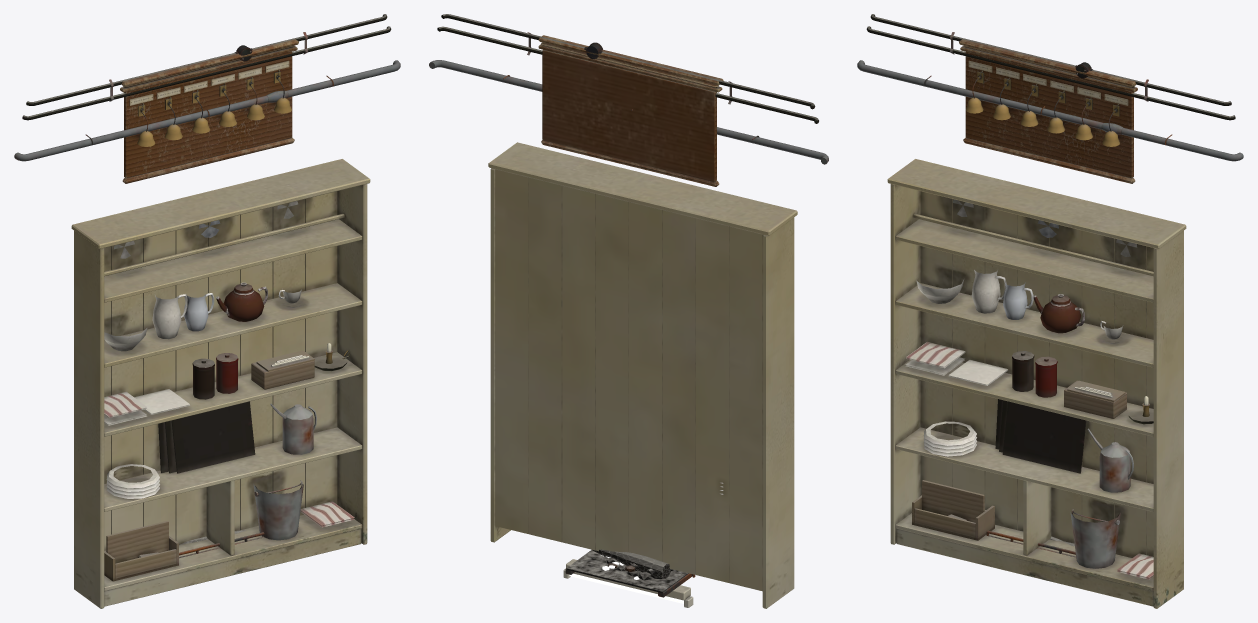
The model's file is common.glb.
3 renders of one model, left to right at view 1: azimuth 30°, elevation 25°; view 2: azimuth 150°, elevation 25°; view 3: azimuth 330°, elevation 25°, orthographic. The views are drawn at different scales.
Parts seen in each view (by area): view 1: Band_service_shelf, Band_bell_board, Band_conduit; view 2: Band_service_shelf, Band_bell_board, Band_conduit, Fix_fire_embers, Fix_batten_light; view 3: Band_service_shelf, Band_bell_board, Band_conduit.
Boxes of the visible parts, x1,y1,x2,y2 form: Band_service_shelf: [71, 159, 370, 608]; Band_bell_board: [120, 39, 298, 183]; Band_conduit: [14, 14, 400, 161]; Band_service_shelf: [488, 142, 797, 608]; Band_bell_board: [538, 35, 723, 186]; Band_conduit: [429, 14, 828, 164]; Fix_fire_embers: [565, 549, 695, 597]; Fix_batten_light: [563, 559, 693, 607]; Band_service_shelf: [887, 159, 1186, 608]; Band_bell_board: [959, 39, 1137, 183]; Band_conduit: [857, 14, 1243, 161].
Size of the model in its own units: 1.98 by 2.55 by 0.37.
Materials: 5 (4 with a texture image).
